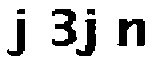3: (46, 7, 79, 48)
j: (4, 4, 32, 60), (78, 5, 102, 60)
n: (114, 12, 151, 52)
